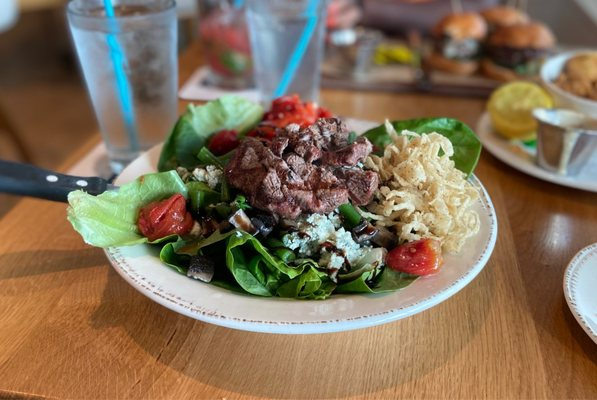pizza: (65, 0, 180, 167), (244, 0, 328, 106)
sushi: (532, 108, 597, 178), (540, 51, 597, 119)
